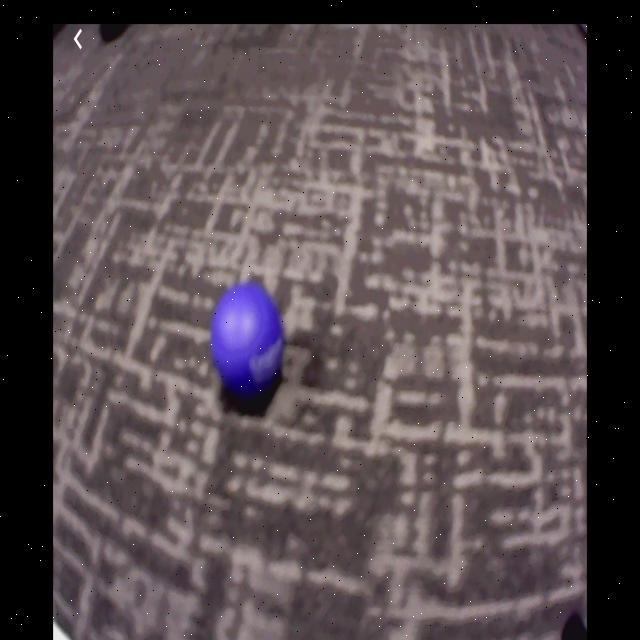ball: (211, 284, 286, 397)
